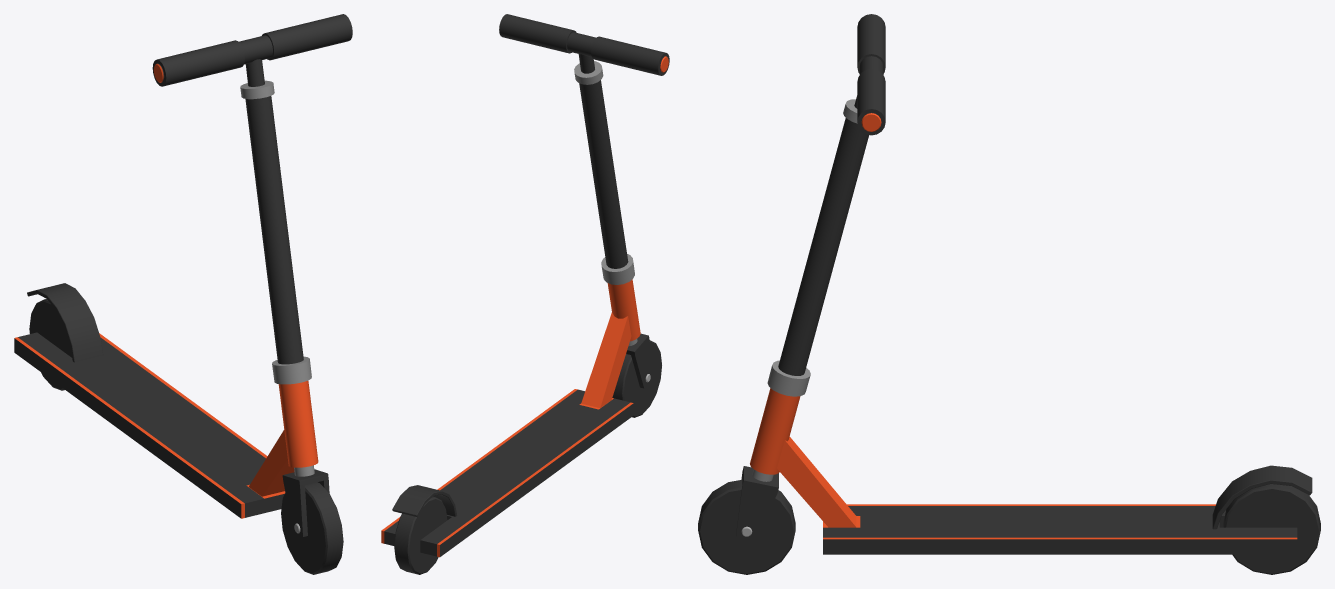
The model's file is Scooter.fbx.
The picture shows the model from 3 angles, left to right: view 1: azimuth 30°, elevation 25°; view 2: azimuth 150°, elevation 25°; view 3: azimuth 270°, elevation 25°; orthographic projection. The views are drawn at different scales.
Parts seen in each view (by area): view 1: Scooter; view 2: Scooter; view 3: Scooter.
Boxes of the visible parts, box(x1,y1,x2,y2) form: Scooter: box(14, 14, 352, 574); Scooter: box(381, 14, 669, 574); Scooter: box(698, 14, 1320, 574).
Size of the model in its own units: 40.26 by 99.15 by 110.
1 material, 1 textured.
